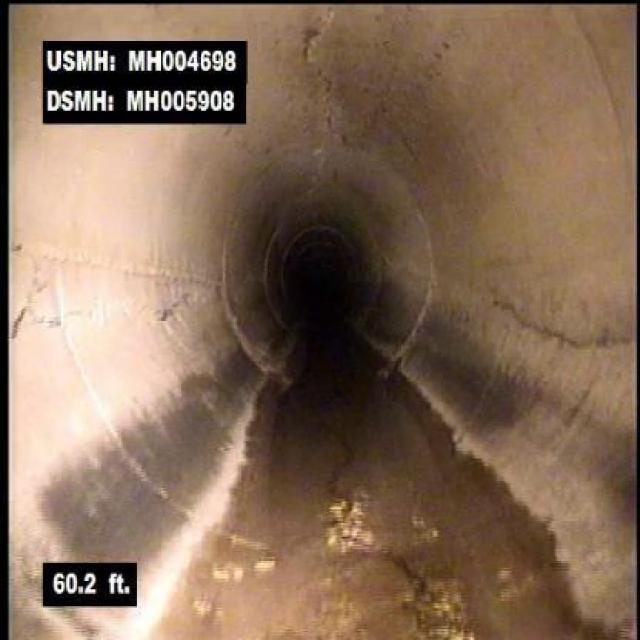Crack: (14, 251, 228, 332), (482, 279, 636, 366), (277, 4, 351, 148), (374, 538, 480, 636), (315, 419, 374, 526)
